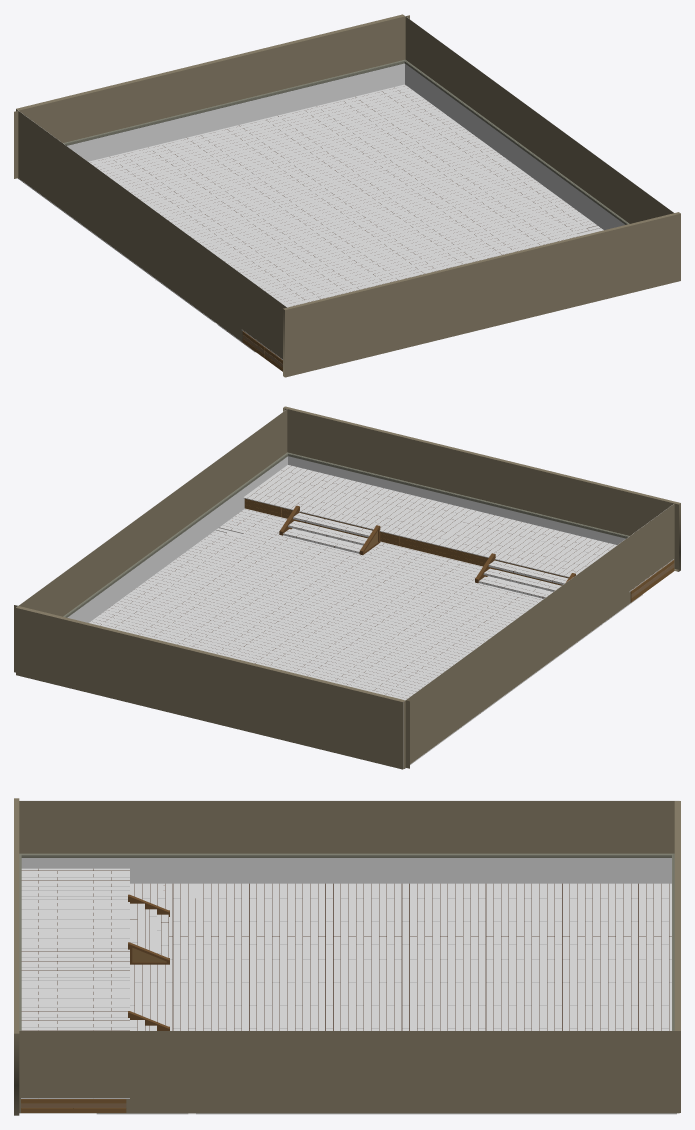
The model's file is Room.fbx.
3 renders of one model, top to bottom at view 1: azimuth 30°, elevation 25°; view 2: azimuth 150°, elevation 25°; view 3: azimuth 270°, elevation 25°, orthographic. The views are drawn at different scales.
Visible parts, largest first — view 1: Room; view 2: Room; view 3: Room.
Part boxes in pixels (left/top/right/bottom): Room: left=14, top=14, right=680, bottom=377; Room: left=14, top=406, right=680, bottom=769; Room: left=14, top=798, right=680, bottom=1115.
Bounding box in the file's own units: 1438 × 239 × 1721.
